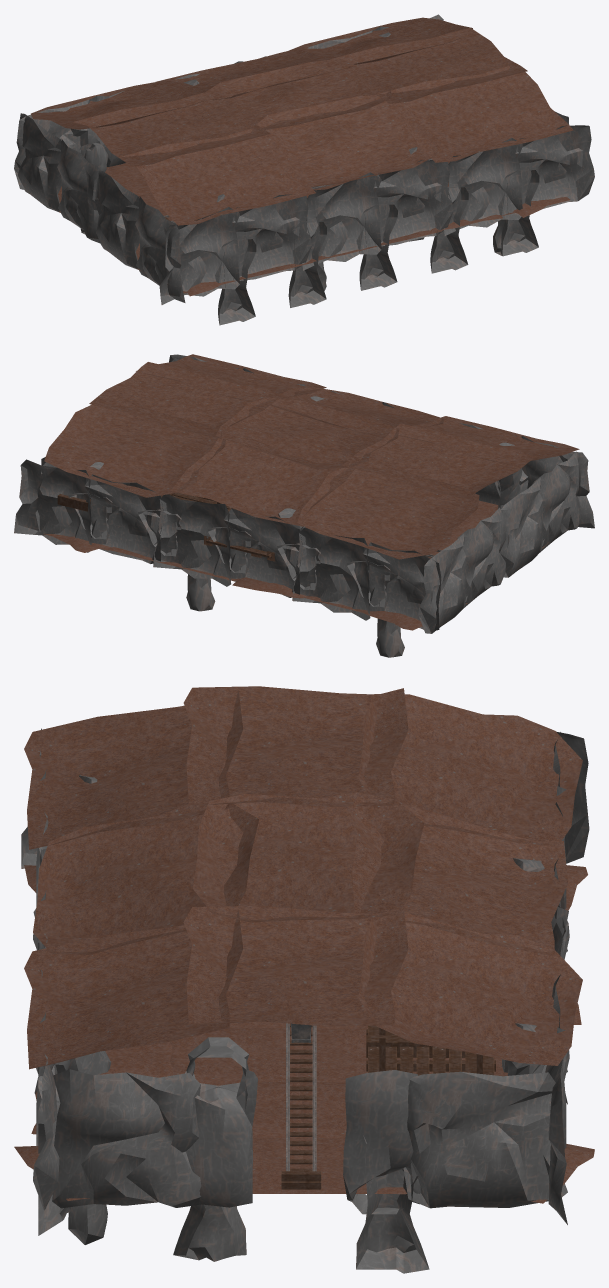
Rendered from sala-inicial.glb.
3 renders of one model, top to bottom at view 1: azimuth 30°, elevation 25°; view 2: azimuth 150°, elevation 25°; view 3: azimuth 270°, elevation 25°, orthographic. The views are drawn at different scales.
Visible parts, largest first — view 1: SI_Ceiling_North_02, SI_Ceiling_North_01, SI_Ceiling_North_03, SI_Ceiling_Center_01, SI_Ceiling_Center_03, SI_Ceiling_Center_02, SI_Wall_Caves_A_03, SI_Wall_Caves_A_05, SI_Wall_Caves_B_04, SI_Wall_Caves_B_02, SI_Wall_Caves_B_06, SI_Wall_Caves_A_01 (+16 smaller); view 2: SI_Ceiling_South_01, SI_Ceiling_South_03, SI_Ceiling_South_02, SI_Ceiling_Center_01, SI_Ceiling_Center_03, SI_Ceiling_Center_02, SI_Wall_Caves_A_04, SI_Wall_Caves_A_02, SI_Wall_Caves_A_06, SI_Wall_Caves_B_05, SI_Wall_Caves_B_03, SI_Wall_Caves_B_01 (+19 smaller); view 3: SI_Ceiling_Center_03, SI_Ceiling_Center_01, SI_Ceiling_South_03, SI_Ceiling_South_01, SI_Ceiling_Center_02, SI_Ceiling_North_03, SI_Ceiling_North_02, SI_Ceiling_North_01, SI_Wall_Caves_B_09, SI_Wall_Caves_A_09, SI_Ceiling_South_02, SI_Wall_Mines_Tunnel_High_01 (+21 smaller).
Boxes of the visible parts, bbox=[...] form: SI_Ceiling_North_02: bbox=[252, 94, 437, 187]; SI_Ceiling_North_01: bbox=[121, 126, 315, 225]; SI_Ceiling_North_03: bbox=[378, 65, 573, 162]; SI_Ceiling_Center_01: bbox=[73, 90, 270, 166]; SI_Ceiling_Center_03: bbox=[330, 27, 527, 103]; SI_Ceiling_Center_02: bbox=[205, 58, 391, 130]; SI_Wall_Caves_A_03: bbox=[301, 172, 381, 270]; SI_Wall_Caves_A_05: bbox=[442, 138, 523, 235]; SI_Wall_Caves_B_04: bbox=[373, 160, 453, 246]; SI_Wall_Caves_B_02: bbox=[232, 194, 311, 280]; SI_Wall_Caves_B_06: bbox=[515, 125, 594, 209]; SI_Wall_Caves_A_01: bbox=[159, 207, 239, 304]; SI_Ceiling_South_01: bbox=[297, 464, 479, 559]; SI_Ceiling_South_03: bbox=[44, 403, 225, 497]; SI_Ceiling_South_02: bbox=[170, 426, 361, 526]; SI_Ceiling_Center_01: bbox=[342, 423, 534, 500]; SI_Ceiling_Center_03: bbox=[89, 362, 281, 438]; SI_Ceiling_Center_02: bbox=[216, 397, 399, 469]; SI_Wall_Caves_A_04: bbox=[153, 494, 231, 586]; SI_Wall_Caves_A_02: bbox=[292, 527, 370, 620]; SI_Wall_Caves_A_06: bbox=[14, 459, 91, 552]; SI_Wall_Caves_B_05: bbox=[84, 474, 163, 563]; SI_Wall_Caves_B_03: bbox=[224, 508, 302, 597]; SI_Wall_Caves_B_01: bbox=[363, 542, 441, 630]; SI_Ceiling_Center_03: bbox=[183, 905, 408, 1026]; SI_Ceiling_Center_01: bbox=[183, 686, 408, 807]; SI_Ceiling_South_03: bbox=[358, 913, 582, 1065]; SI_Ceiling_South_01: bbox=[358, 694, 582, 846]; SI_Ceiling_Center_02: bbox=[192, 792, 424, 922]; SI_Ceiling_North_03: bbox=[24, 909, 243, 1069]; SI_Ceiling_North_02: bbox=[33, 802, 258, 954]; SI_Ceiling_North_01: bbox=[24, 690, 243, 849]; SI_Wall_Caves_B_09: bbox=[403, 1071, 555, 1208]; SI_Wall_Caves_A_09: bbox=[52, 1069, 201, 1208]; SI_Ceiling_South_02: bbox=[349, 796, 567, 956]; SI_Wall_Mines_Tunnel_High_01: bbox=[185, 1037, 257, 1207].
Size of what is drawn, in the model's own units: 27.26 by 8.93 by 17.9.
Materials: 14 (14 with a texture image).
